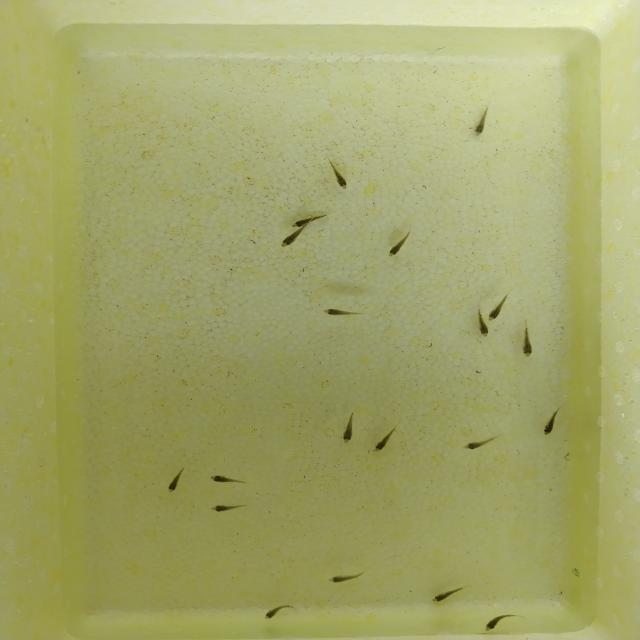fingerling: (205, 470, 252, 488), (210, 497, 257, 515), (426, 586, 468, 606), (482, 614, 522, 635), (326, 163, 358, 189), (382, 236, 412, 263), (263, 603, 305, 621), (370, 431, 400, 456), (469, 104, 490, 139), (322, 306, 362, 324), (458, 434, 498, 451), (520, 326, 541, 357), (338, 413, 356, 446), (163, 467, 186, 492), (276, 230, 304, 249), (328, 571, 368, 582), (543, 411, 559, 436), (472, 322, 492, 338), (483, 307, 504, 322), (290, 216, 313, 228)
